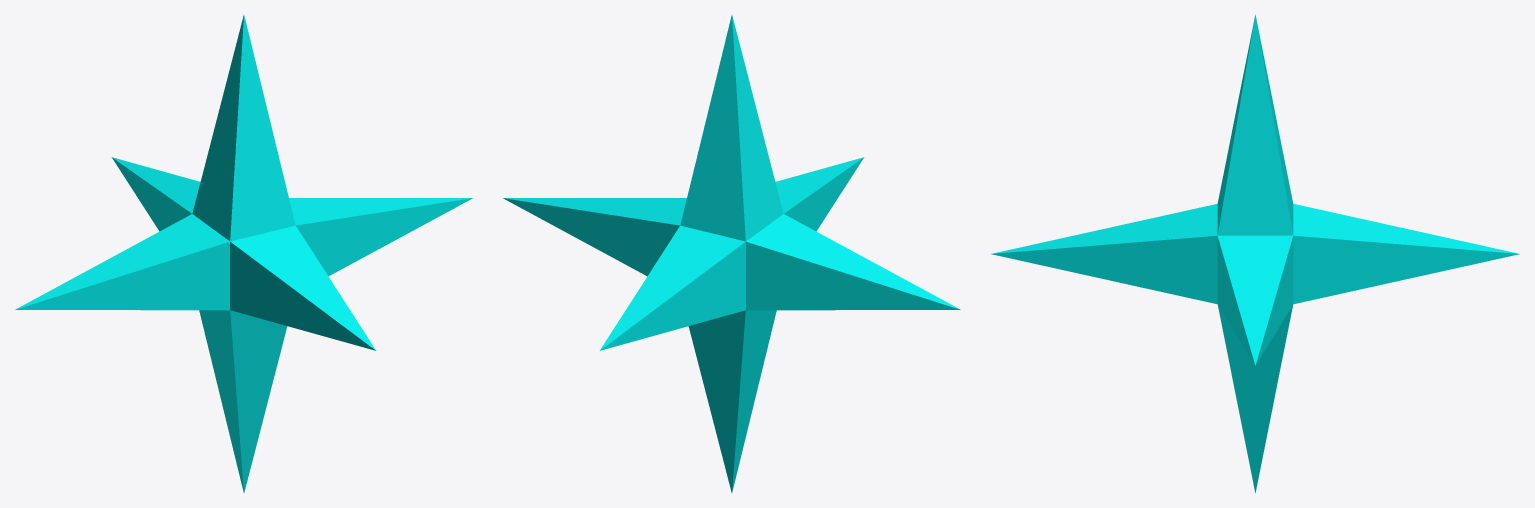
Rendered from Artifact.fbx.
3 views of the same model, side by side, from view 1: azimuth 30°, elevation 25°; view 2: azimuth 150°, elevation 25°; view 3: azimuth 270°, elevation 25° (orthographic).
Visible parts, largest first — view 1: Cube (×6); view 2: Cube (×6); view 3: Cube (×5).
Part boxes in pixels (left/top/right/bottom): Cube (×6): left=15, top=15, right=472, bottom=492; Cube (×6): left=503, top=15, right=960, bottom=492; Cube (×5): left=991, top=14, right=1519, bottom=493.
Bounding box in the file's own units: 1.05 × 1.05 × 1.05.
1 material, 1 textured.
